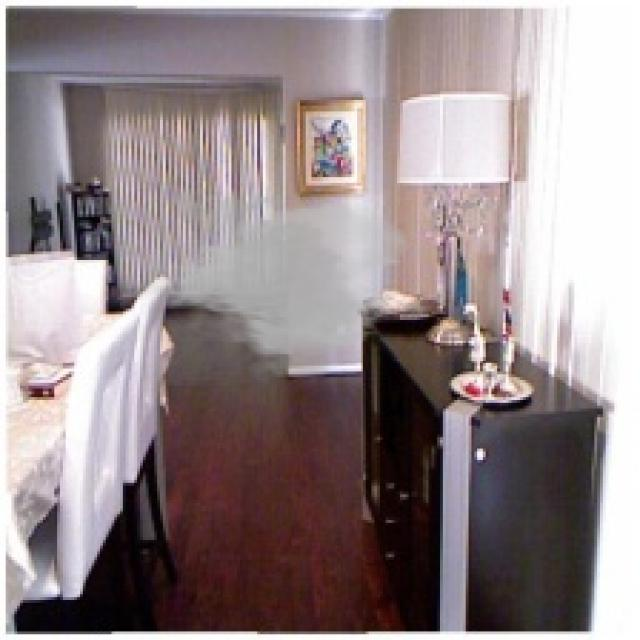smoke: (140, 180, 414, 386)
